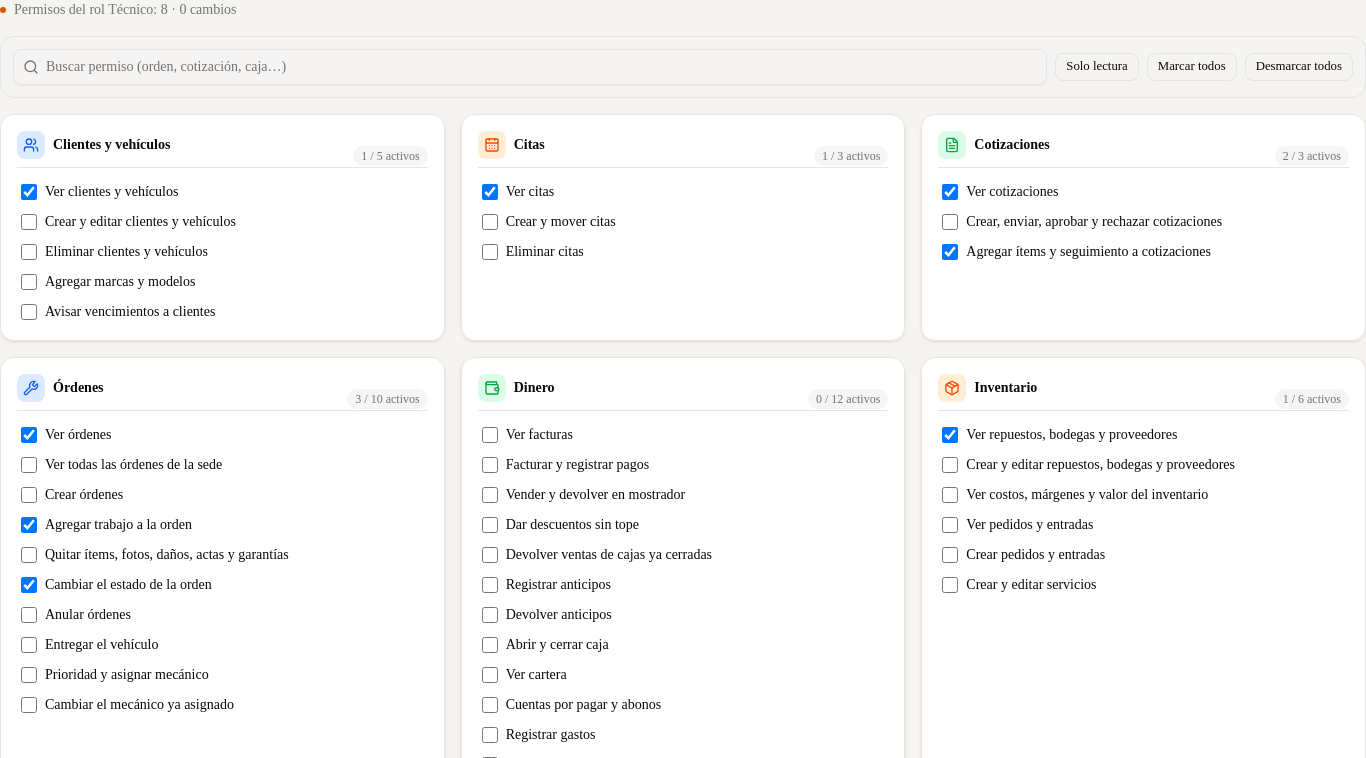
it: PermisosUsuario › tarjetas, buscador y acciones masivas (rediseño, tarea 3) › Marcar todos con filtro también marca los requisitos que no se ven
This screenshot has width=1366, height=758.
Type "pedidos" into the search field labelled "Buscar permiso". click: {"x": 530, "y": 67}
box: [13,49,1047,85]
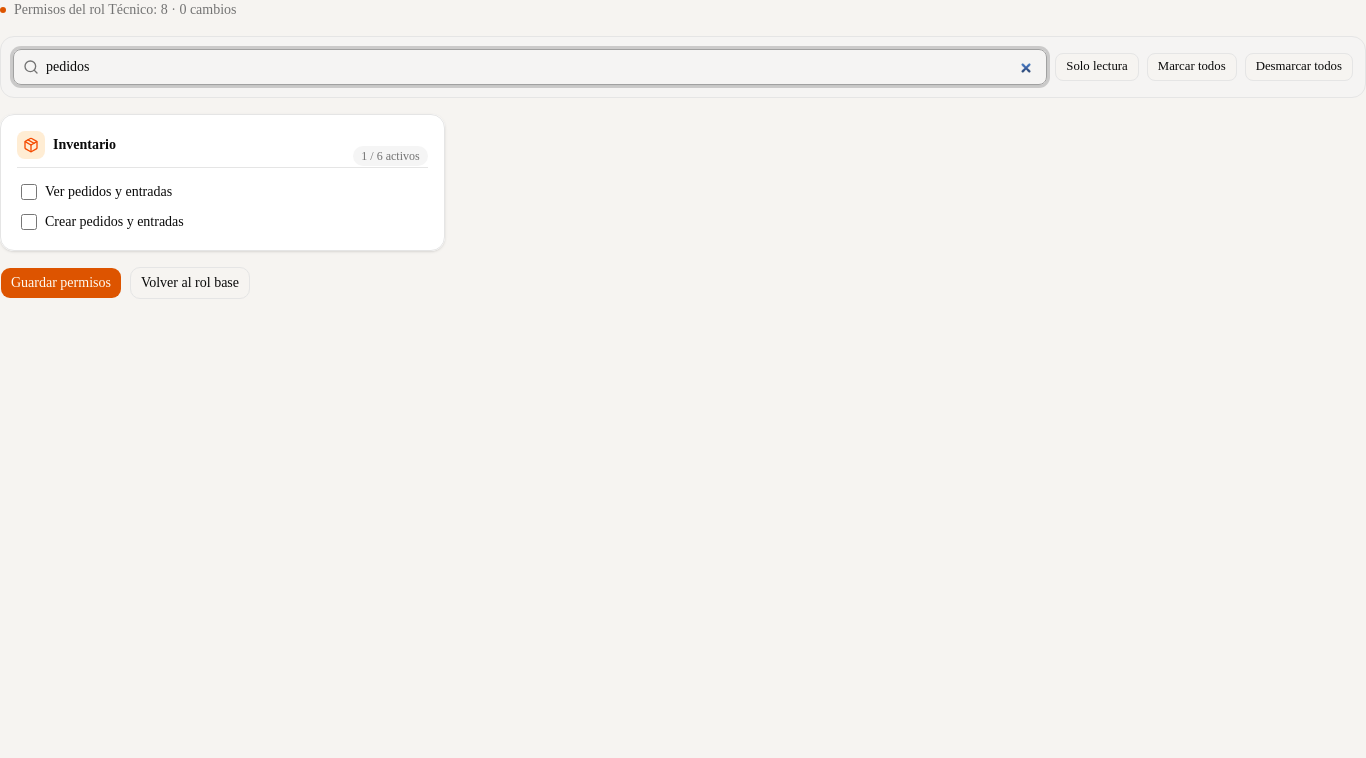
Click the button "Marcar todos". click: {"x": 1192, "y": 67}
box: [1147,53,1237,81]
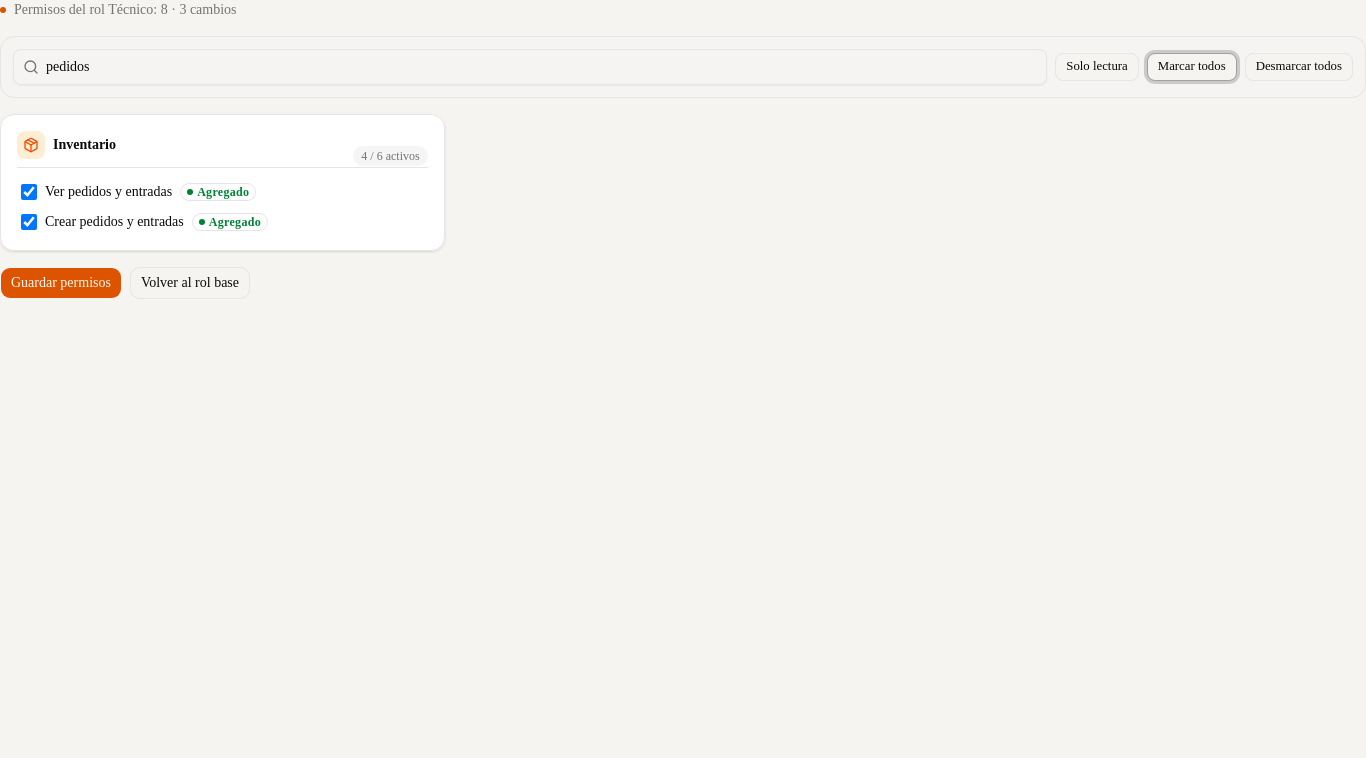
Clear the search field named "Buscar permiso". click: {"x": 530, "y": 67}
box: [13,49,1047,85]
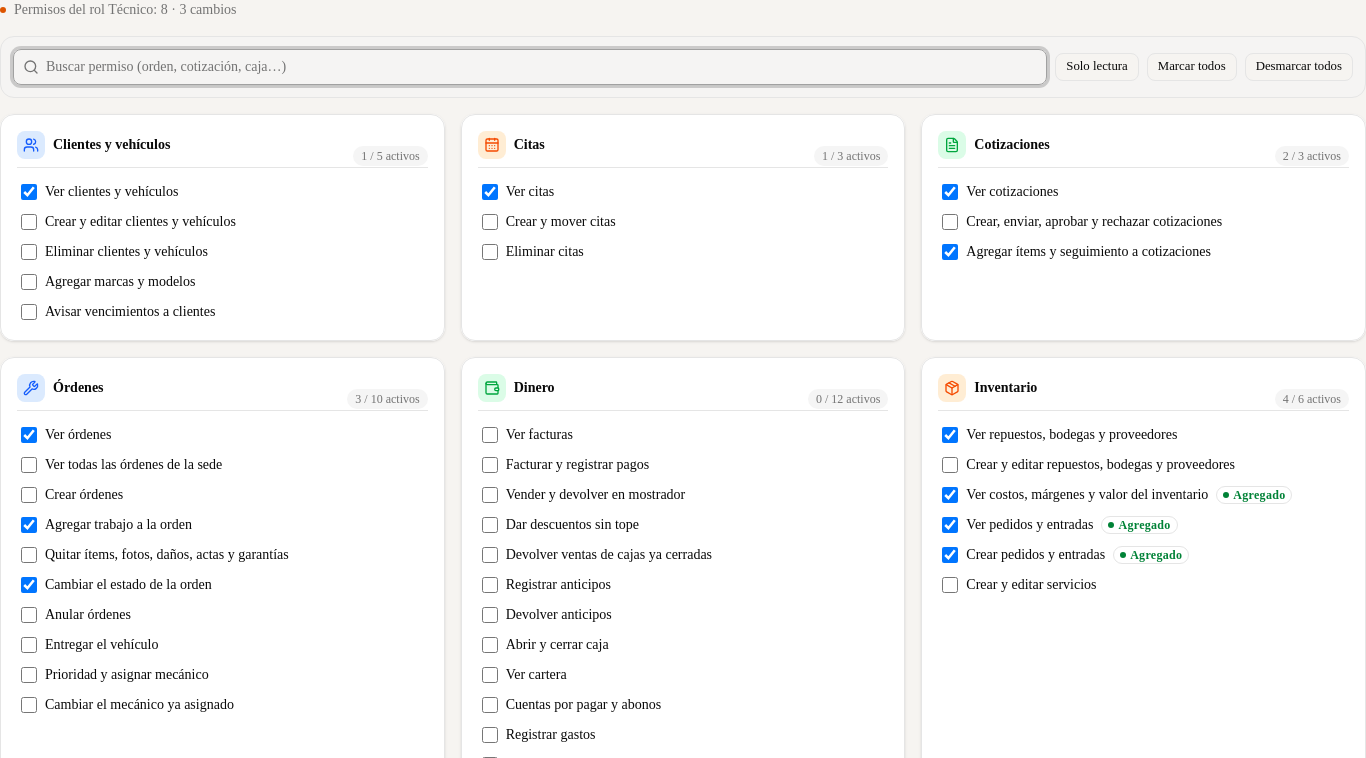
Result: the checkbox labelled "Ver pedidos y entradas Agregado" is checked at [942,517,958,533]
Result: the checkbox labelled "Ver costos, márgenes y valor del inventario Agregado" is checked at [942,487,958,503]
